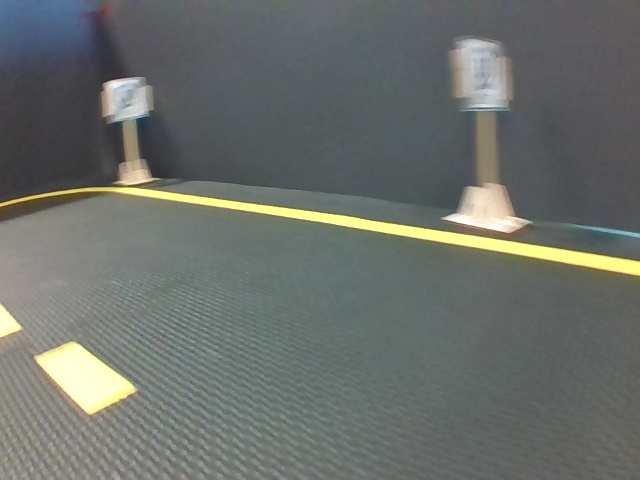no30: (458, 38, 506, 111), (105, 79, 149, 116)
